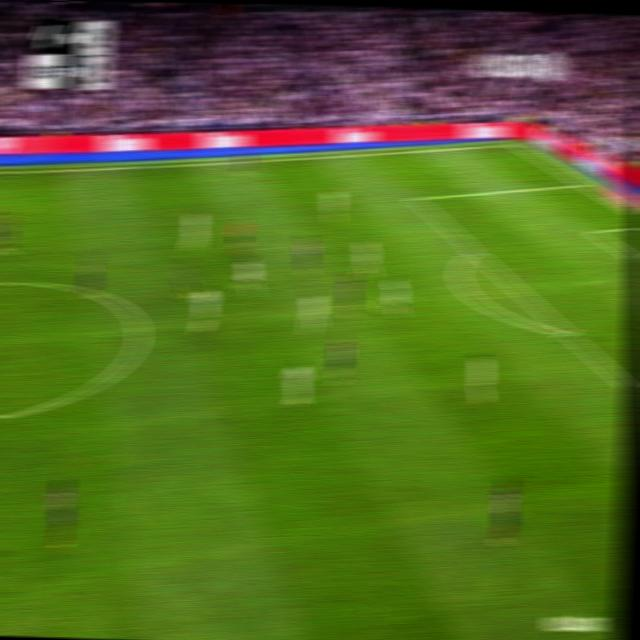bigarea_top_inner: (409, 191, 424, 204)
bottom_arc_area_intersection: (557, 322, 577, 341)
corner: (507, 136, 524, 148)
smallarea_top_inner: (587, 226, 601, 236)
top_arc_area_intersection: (466, 241, 482, 258)
